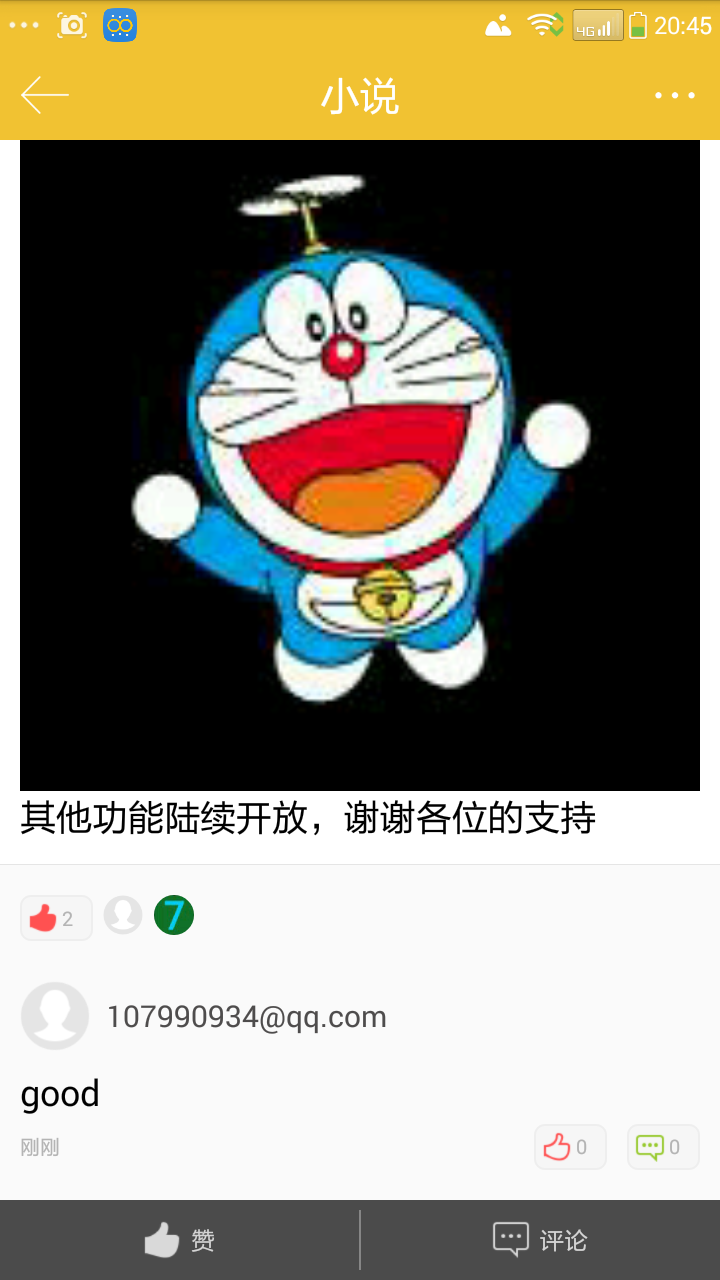button: (7, 1192, 720, 1275)
imgview: (13, 144, 707, 795)
